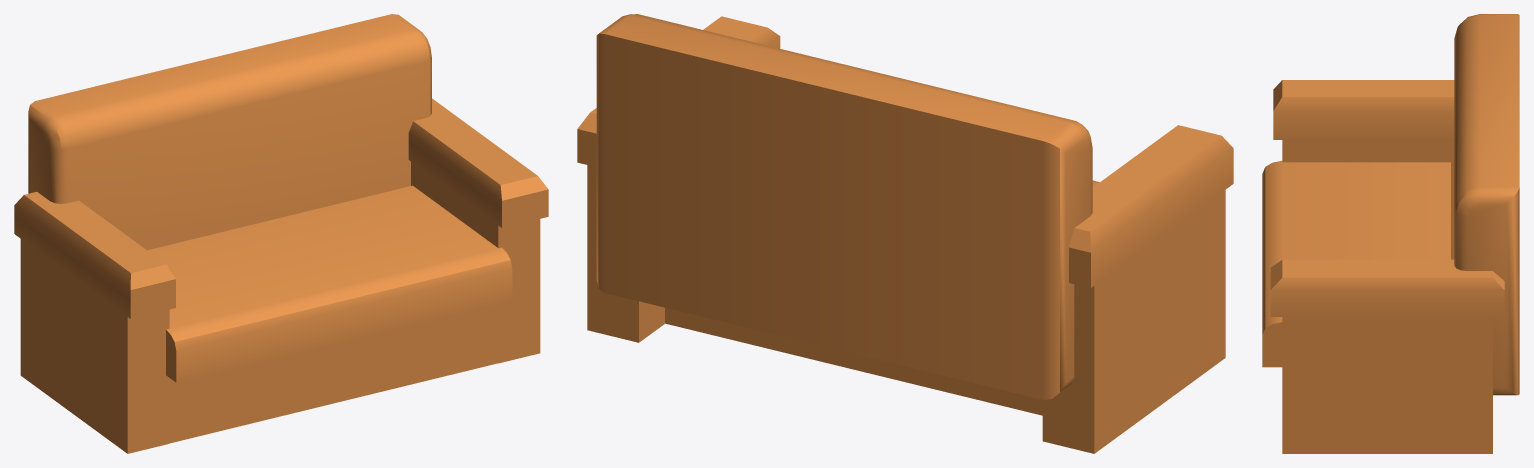
File: 4 sofa.fbx
3 renders of one model, left to right at view 1: azimuth 30°, elevation 25°; view 2: azimuth 150°, elevation 25°; view 3: azimuth 270°, elevation 25°, orthographic. The views are drawn at different scales.
Parts seen in each view (by area): view 1: 4sofa; view 2: 4sofa; view 3: 4sofa.
Boxes of the visible parts, x1,y1,x2,y2 form: 4sofa: (14, 14, 548, 453); 4sofa: (577, 14, 1233, 453); 4sofa: (1262, 14, 1519, 453).
Size of the model in its own units: 82.83 by 48.96 by 45.
